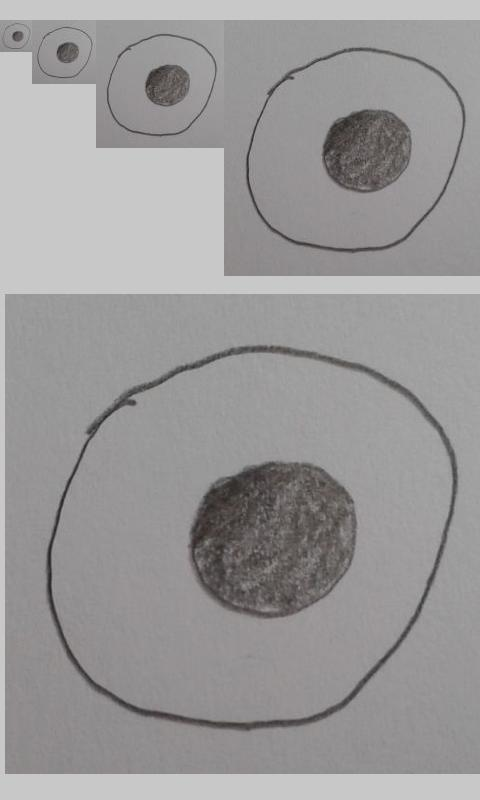radio_button: (43, 341, 462, 735), (244, 45, 467, 254), (106, 33, 218, 137), (36, 25, 94, 79), (1, 22, 31, 50)
